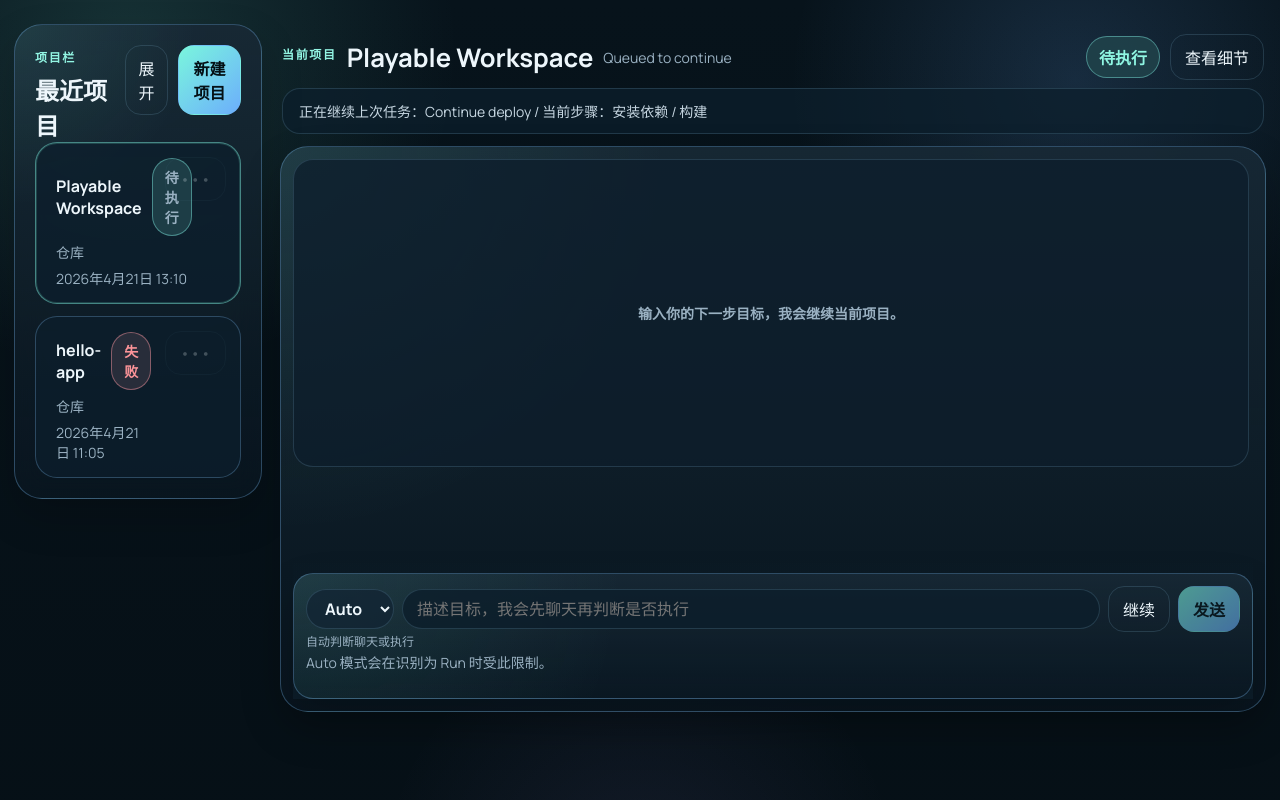
Scenario: OperatorV4Page › sends Ask mode without default execution and shows the user message immediately
This screenshot has width=1280, height=800.
Select "Ask" in the dropdown with test id "operator-v4-mode-select": (350, 609) [306,589,394,629]
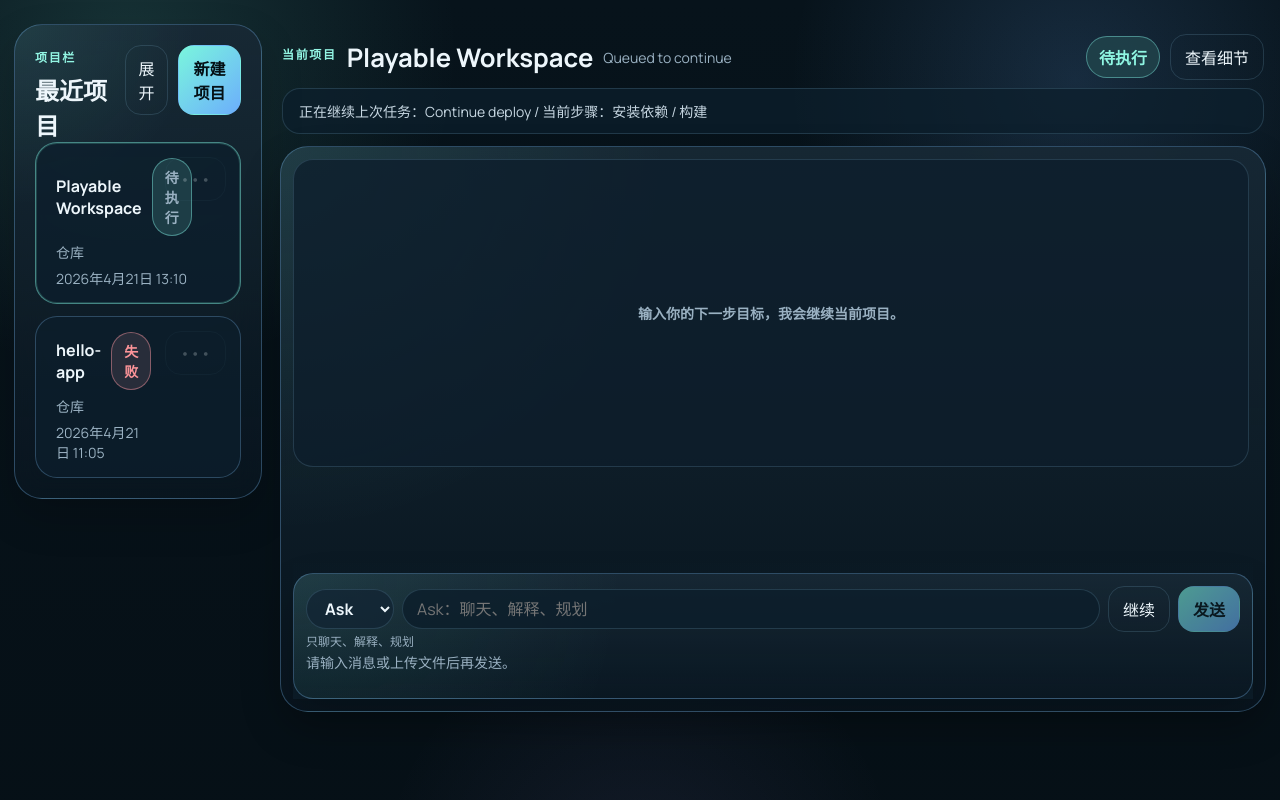
In the field with test id "operator-v4-composer-input": (751, 609) [402,589,1100,629], type "帮我解释一下为什么这次失败"
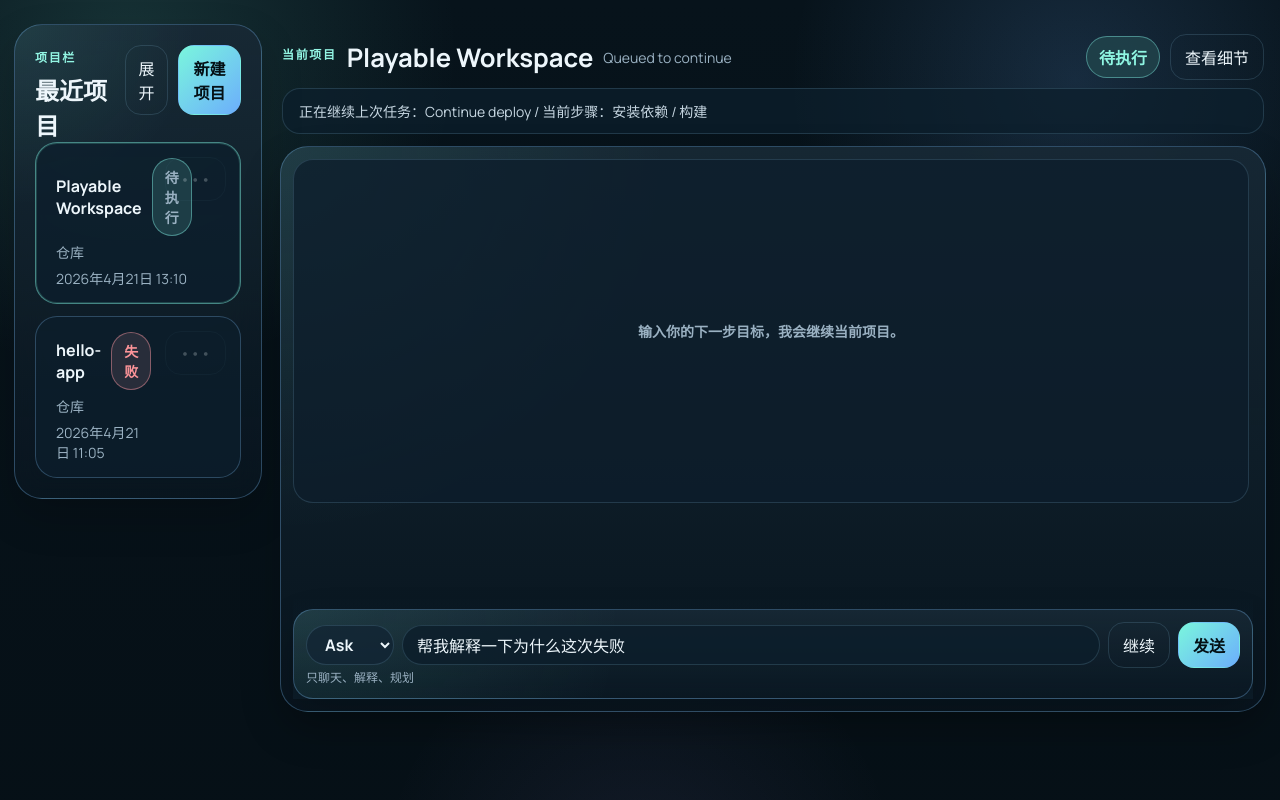
Click the button "发送": (1209, 645) [1178,622,1240,668]
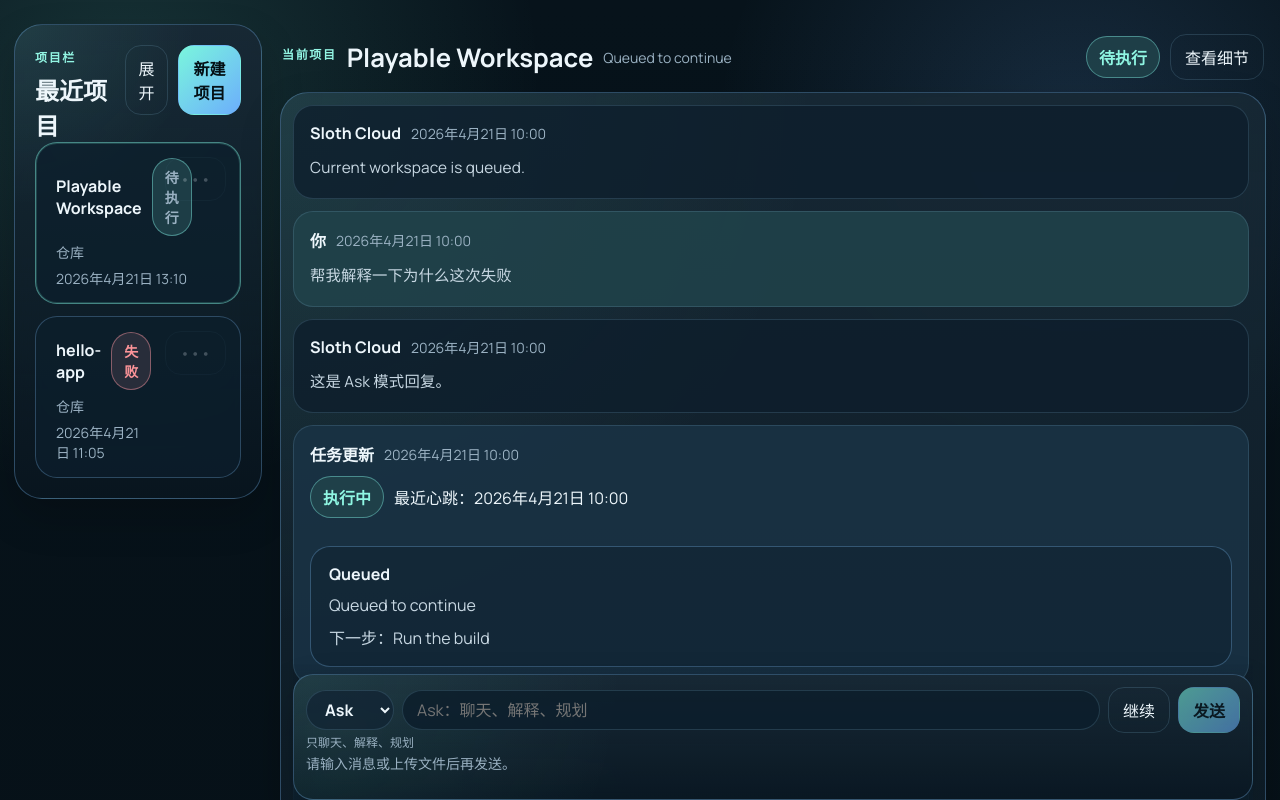
Result: the text "帮我解释一下为什么这次失败" is shown at [310,265,512,286]
